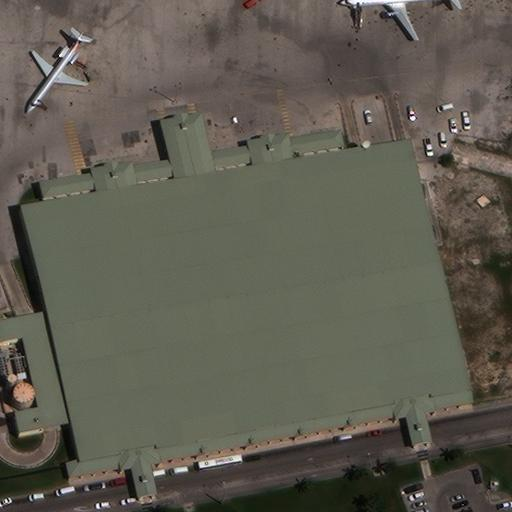Medium Civil Transport: (26, 30, 85, 115), (338, 0, 450, 40)
